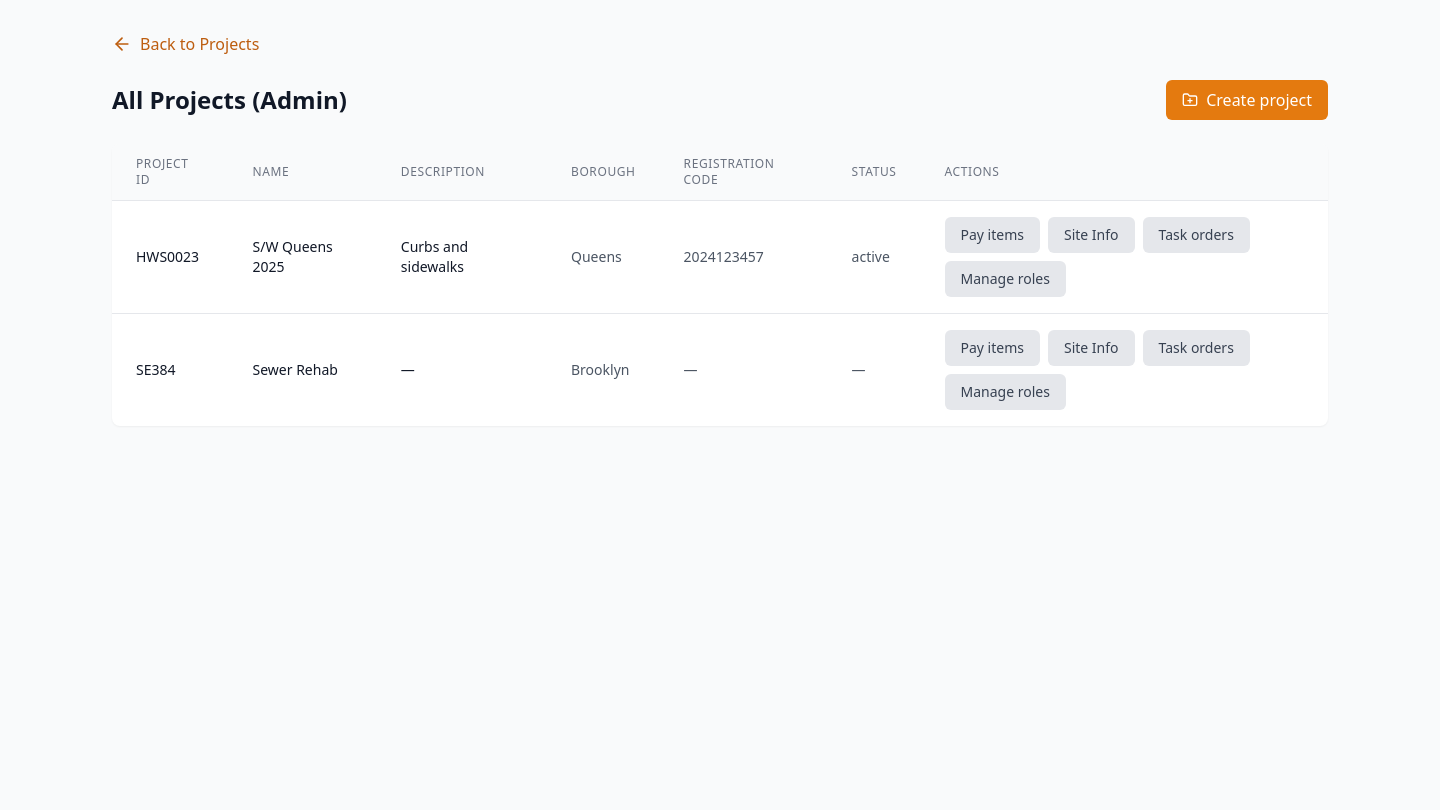
Test: AdminProjectsPage — creating a project › has a Create project button that opens the dialog
Click the button "Create project".
click(1247, 100)  # box x1=1166 y1=80 x2=1328 y2=120
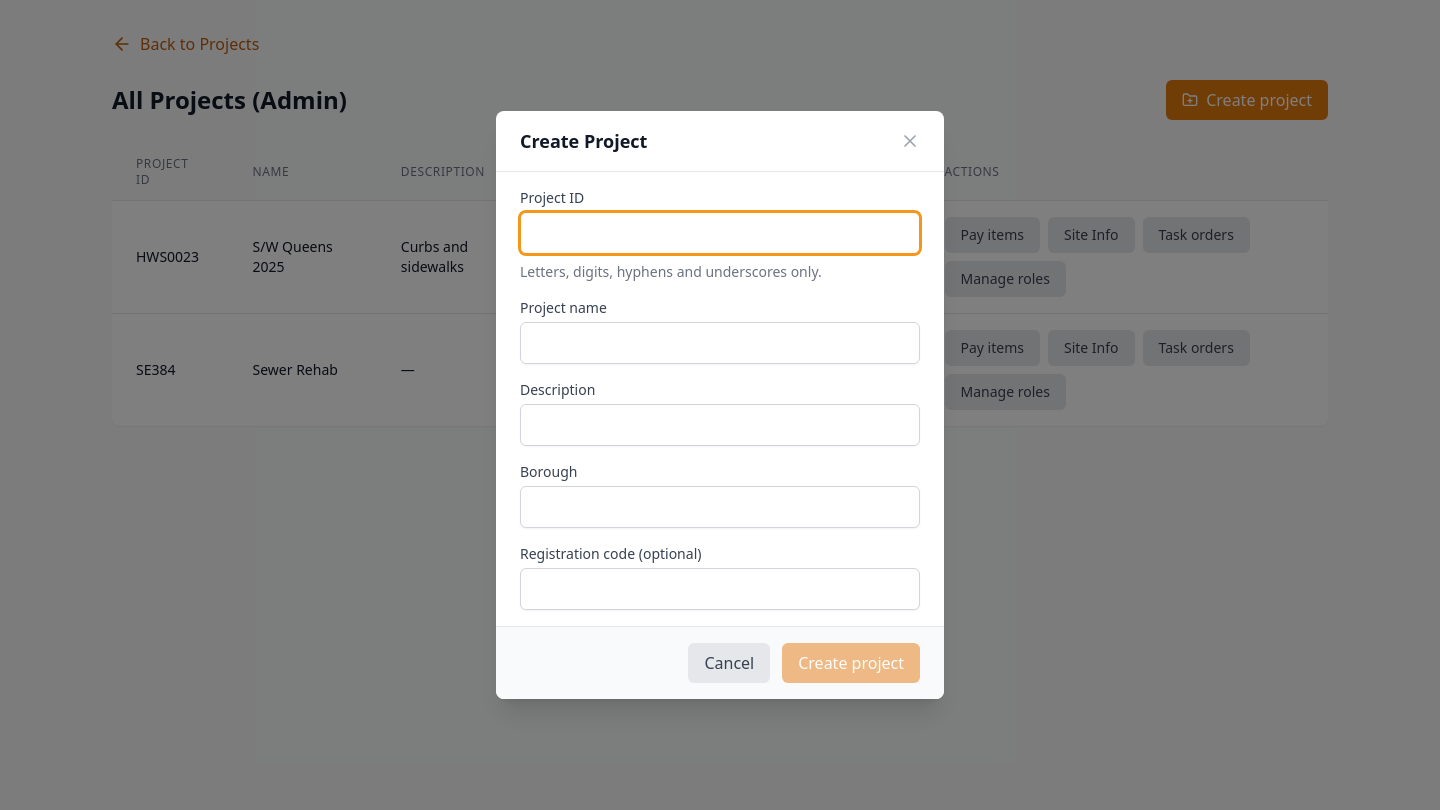
Expected: the field labelled "Project ID" is empty, x1=520 y1=212 x2=920 y2=254
Expected: the dialog "Create Project" is shown, x1=496 y1=111 x2=944 y2=699
